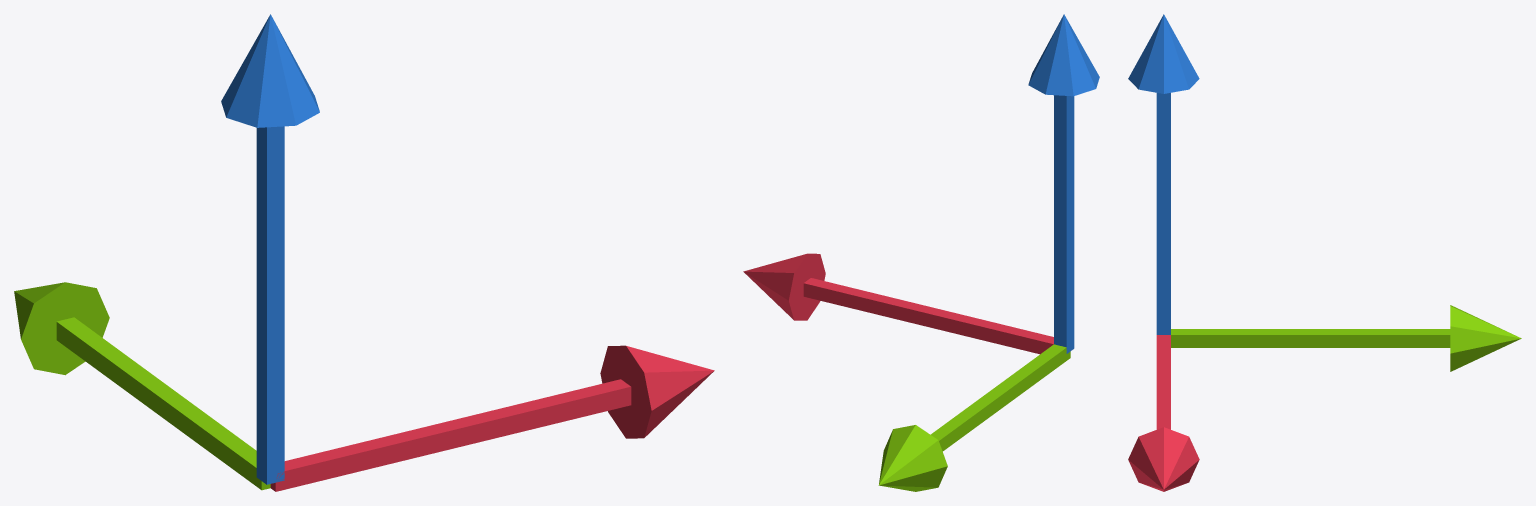
The model's file is LocationGizmo.fbx.
The picture shows the model from 3 angles, left to right: view 1: azimuth 30°, elevation 25°; view 2: azimuth 150°, elevation 25°; view 3: azimuth 270°, elevation 25°; orthographic projection. The views are drawn at different scales.
Parts seen in each view (by area): view 1: LocGizmo; view 2: LocGizmo; view 3: LocGizmo.
Boxes of the visible parts, x1,y1,x2,y2 form: LocGizmo: (14, 14, 714, 491); LocGizmo: (743, 14, 1099, 491); LocGizmo: (1128, 14, 1521, 491).
Bounding box in the file's own units: 550 × 550 × 550.
